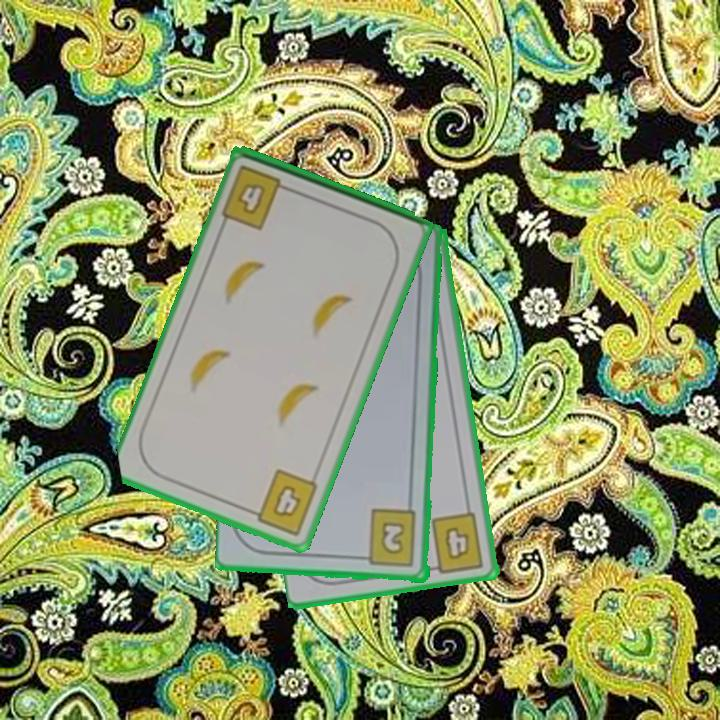2b: (356, 507, 419, 570)
4b: (244, 466, 321, 539), (218, 162, 296, 233), (424, 509, 487, 576)
